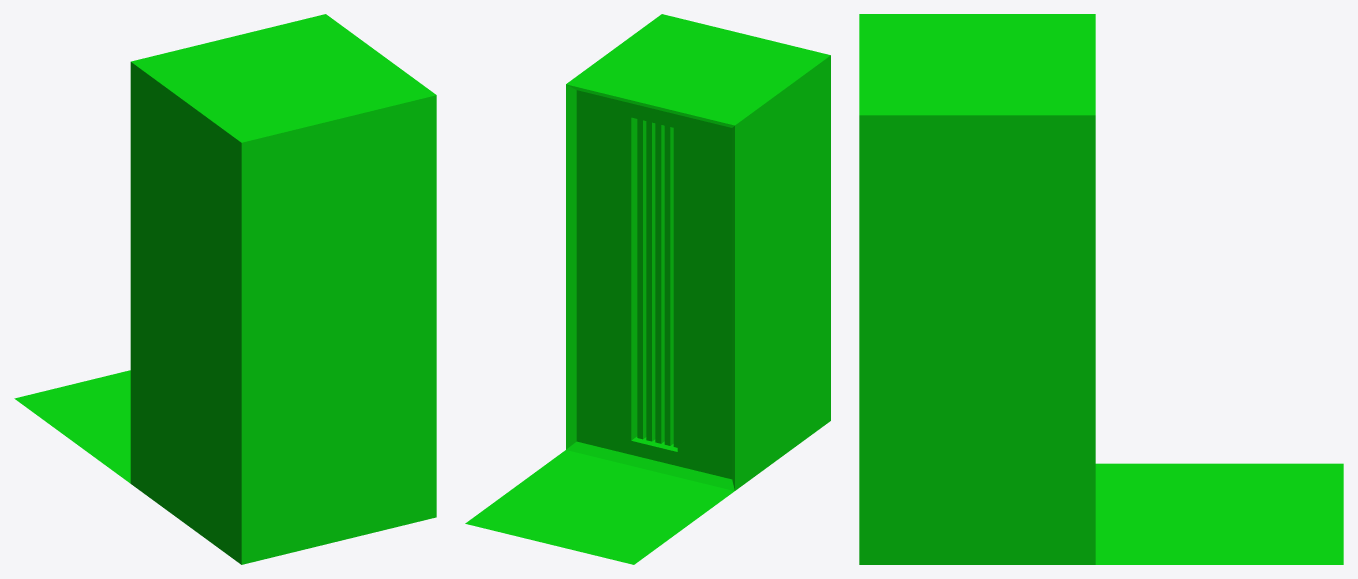
Rendered from Toxic_T1_Side_InActive.fbx.
The picture shows the model from 3 angles, left to right: view 1: azimuth 30°, elevation 25°; view 2: azimuth 150°, elevation 25°; view 3: azimuth 270°, elevation 25°; orthographic projection. The views are drawn at different scales.
Parts seen in each view (by area): view 1: Toxic_T1_Side_InActive; view 2: Toxic_T1_Side_InActive; view 3: Toxic_T1_Side_InActive.
Boxes of the visible parts, left/top/right/bottom form: Toxic_T1_Side_InActive: left=14, top=14, right=436, bottom=564; Toxic_T1_Side_InActive: left=465, top=14, right=830, bottom=564; Toxic_T1_Side_InActive: left=859, top=14, right=1343, bottom=564.
Size of the model in its own units: 0.9677 by 1.95 by 2.
